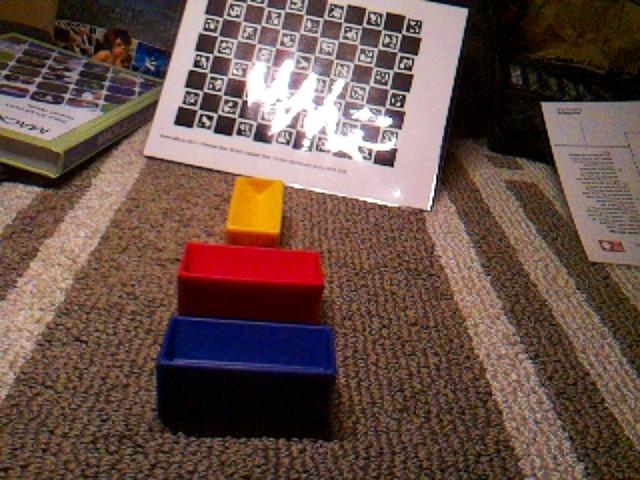blue: (154, 313, 338, 440)
red: (176, 239, 326, 324)
yellow: (224, 175, 285, 247)
